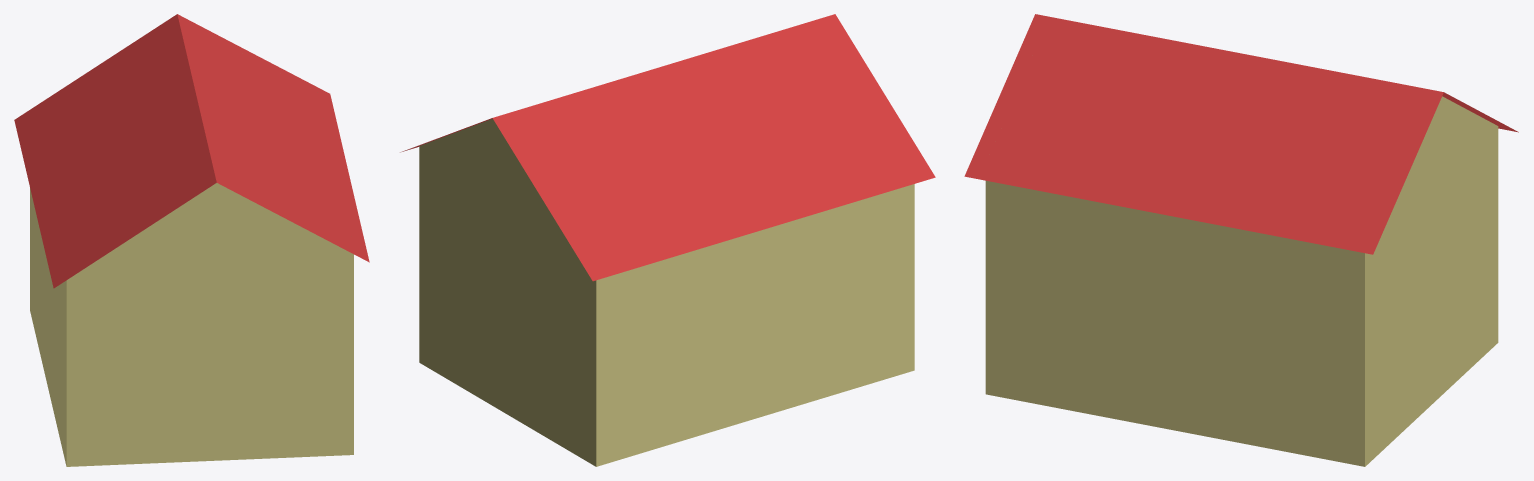
The picture shows the model from 3 angles, left to right: view 1: azimuth 30°, elevation 25°; view 2: azimuth 150°, elevation 25°; view 3: azimuth 270°, elevation 25°; orthographic projection. The views are drawn at different scales.
Size of the model in its own units: 15.86 by 17.32 by 10.93.
